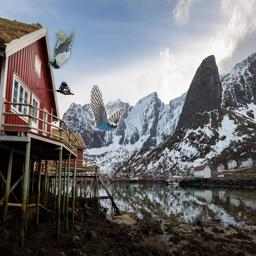Crow: (49, 29, 76, 70)
Swallow: (84, 85, 127, 131)
Woodpecker: (56, 81, 75, 95)
